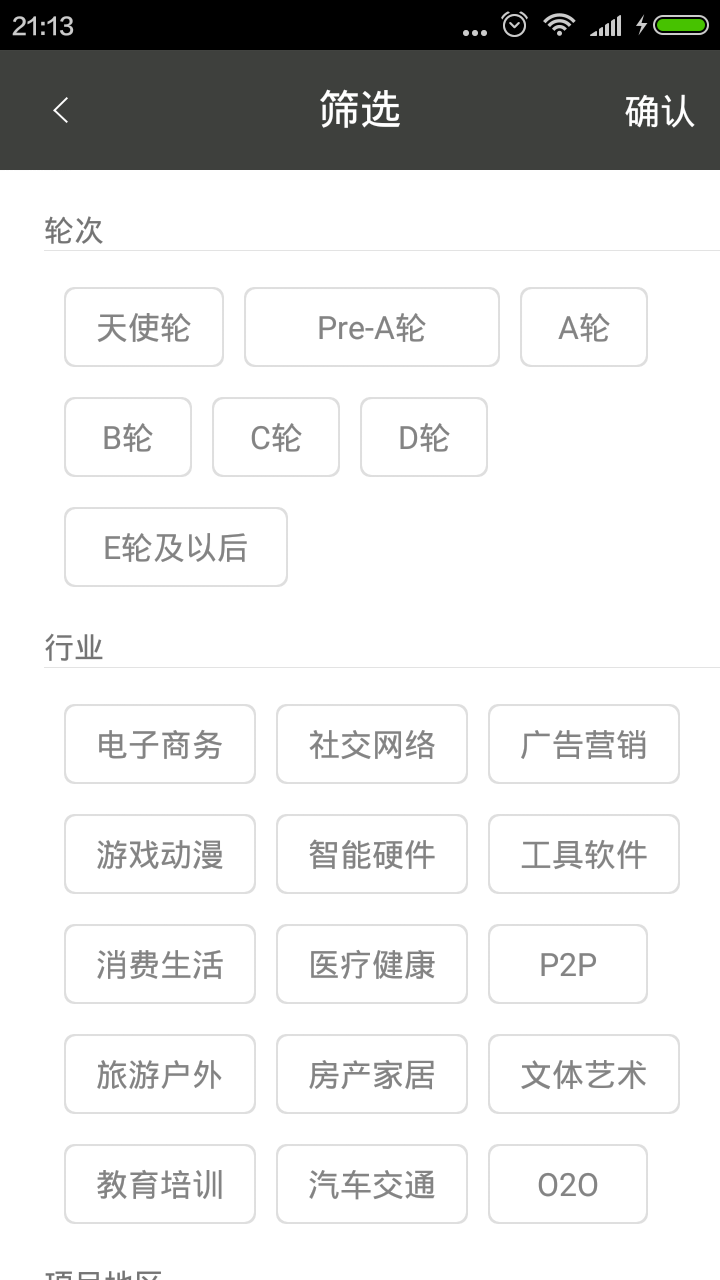button: (267, 695, 479, 788)
